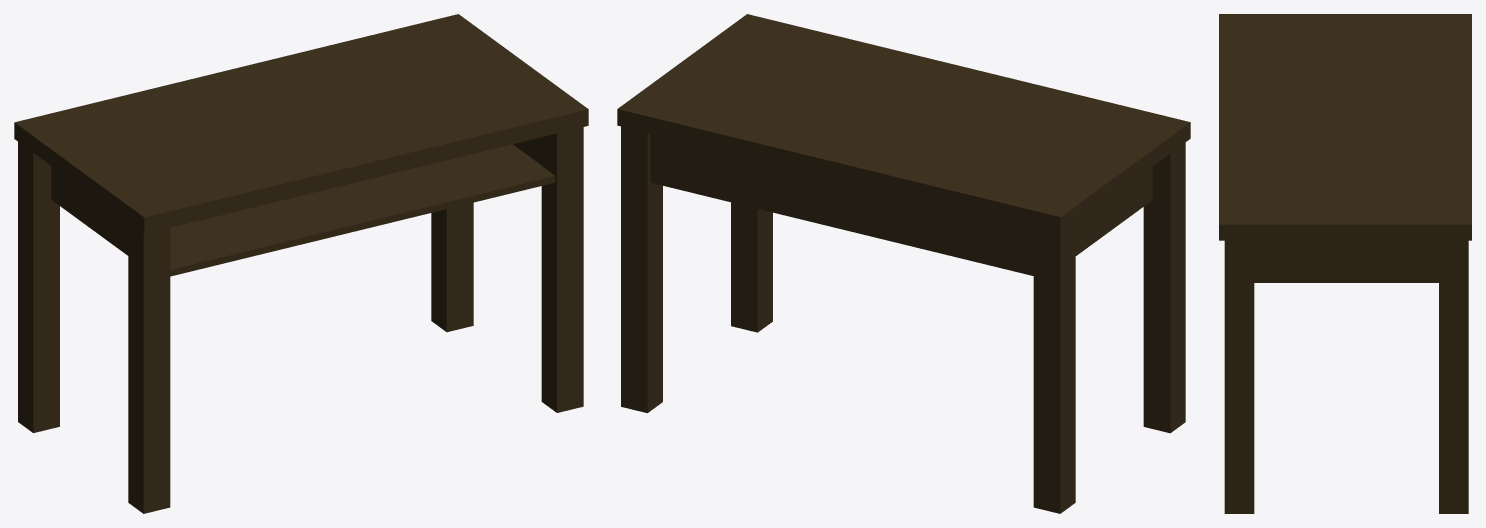
Rendered from Office_Desk_2.fbx.
3 views of the same model, side by side, from view 1: azimuth 30°, elevation 25°; view 2: azimuth 150°, elevation 25°; view 3: azimuth 270°, elevation 25° (orthographic). The views are drawn at different scales.
Parts seen in each view (by area): view 1: Office_Desk_2; view 2: Office_Desk_2; view 3: Office_Desk_2.
Boxes of the visible parts, box(x1,y1,x2,y2) form: Office_Desk_2: box(14, 14, 588, 513); Office_Desk_2: box(617, 14, 1190, 513); Office_Desk_2: box(1219, 14, 1471, 513).
Bounding box in the file's own units: 148 × 95.09 × 75.
